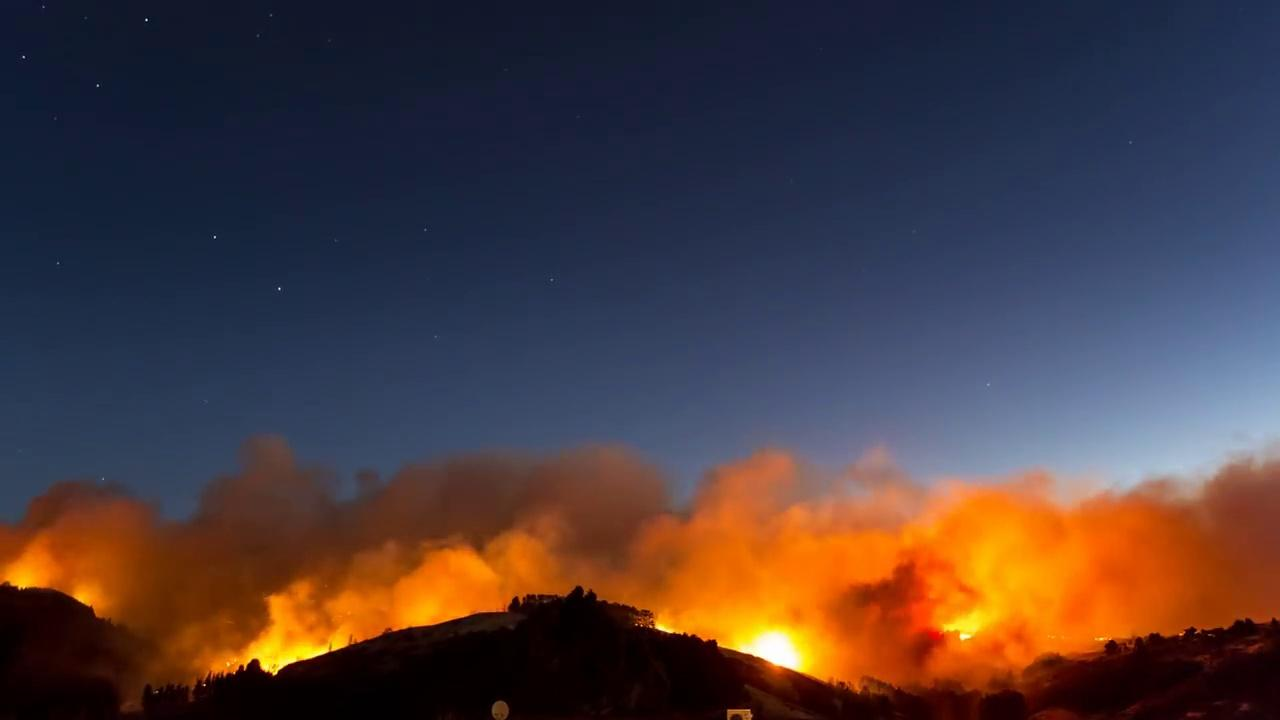smoke: (699, 506, 1261, 619), (64, 513, 533, 606)
